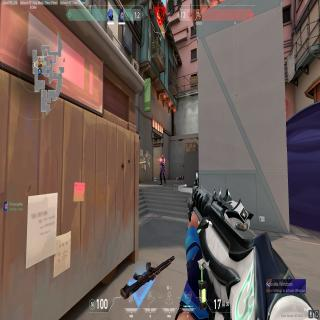ENEMY-BODY: (160, 153, 167, 186)
ENEMY-HEAD: (161, 154, 164, 159)
